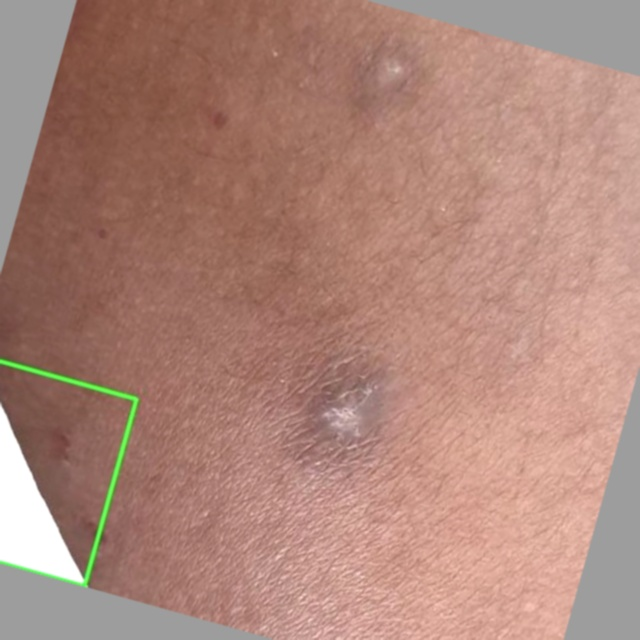Scabies: (0, 361, 136, 585)
